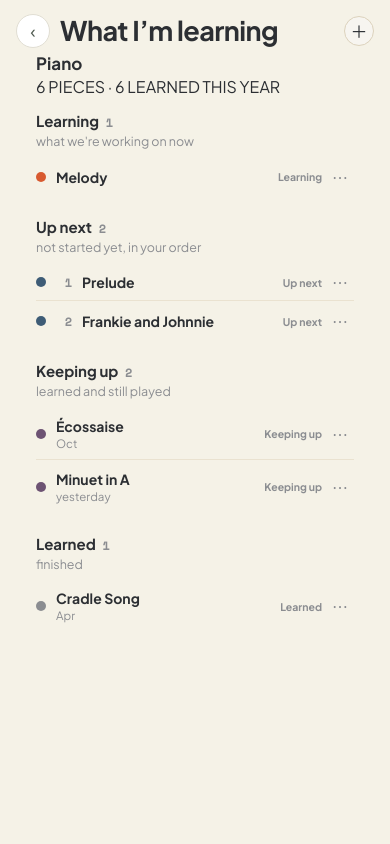
the ＋ door › "Just tell me in chat" hands the coach a note and closes the door
Click the button named "Add".
click(359, 31)  # box [344,16,374,46]
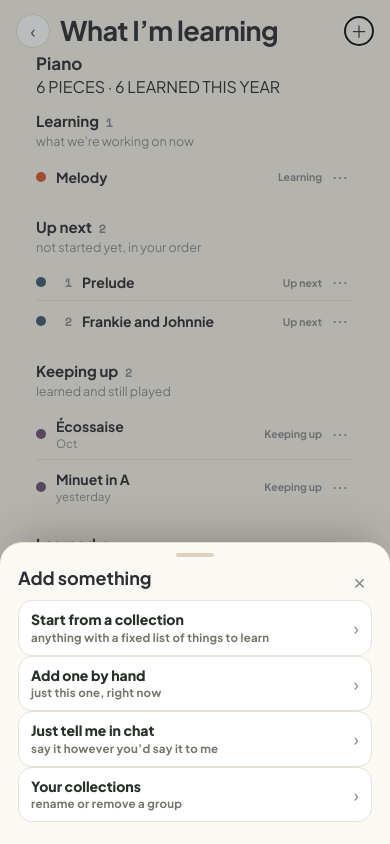
Click the text "Just tell me in chat".
click(93, 730)  # box [31,721,154,739]
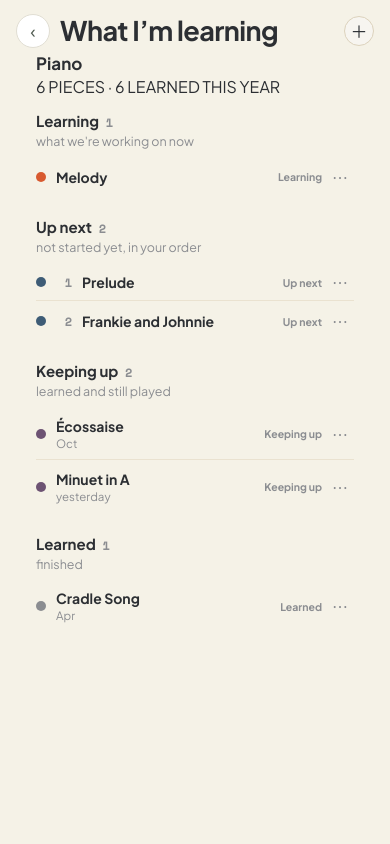
Now the text "Add something" is gone
